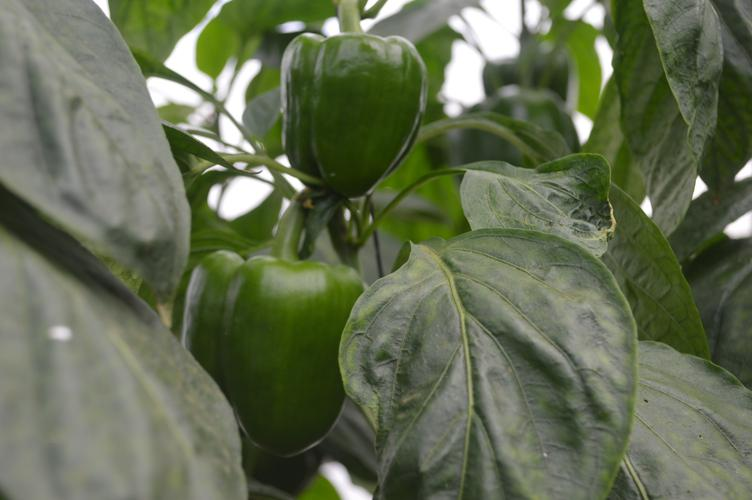BellPepper: (182, 251, 365, 456), (279, 32, 427, 197)
